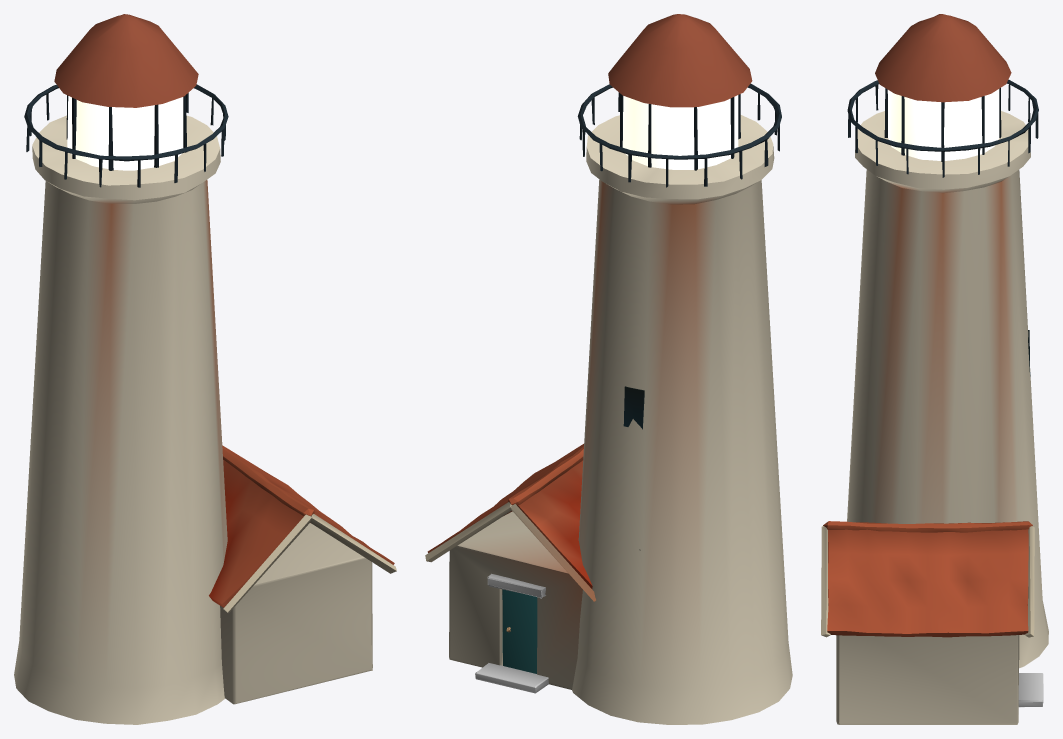
The model's file is lighthouse.glb.
3 views of the same model, side by side, from view 1: azimuth 30°, elevation 25°; view 2: azimuth 150°, elevation 25°; view 3: azimuth 270°, elevation 25° (orthographic). The views are drawn at different scales.
Parts seen in each view (by area): view 1: lighthouse; view 2: lighthouse; view 3: lighthouse.
Boxes of the visible parts, left/top/right/bottom form: lighthouse: left=14, top=14, right=396, bottom=724; lighthouse: left=425, top=14, right=792, bottom=724; lighthouse: left=821, top=14, right=1048, bottom=724.
Size of the model in its own units: 6.58 by 13.61 by 4.5.
